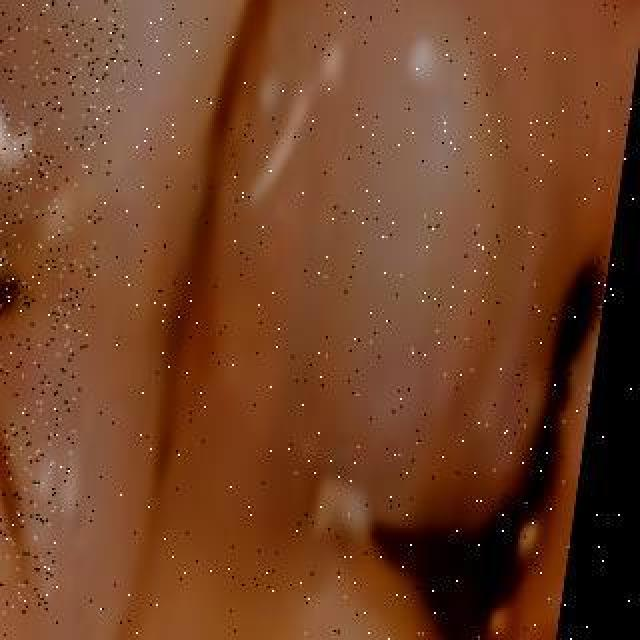cavities: (234, 144, 632, 640), (0, 0, 120, 424)
